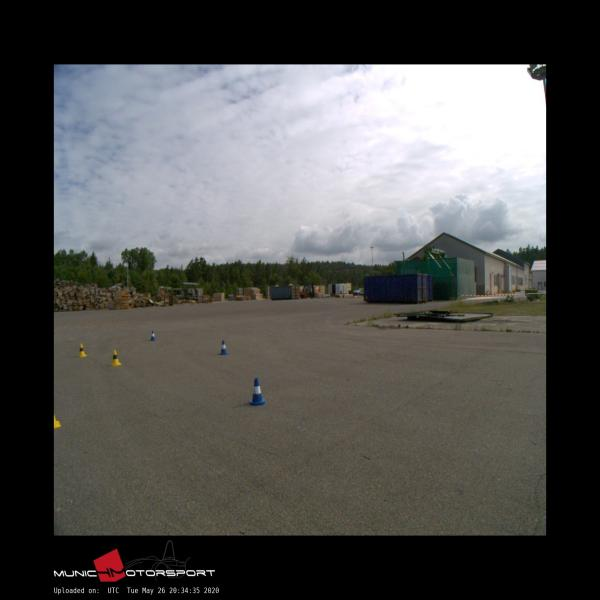blue_cone: (249, 378, 265, 405), (220, 340, 228, 355), (150, 331, 156, 340)
yellow_cone: (110, 350, 121, 364), (78, 343, 87, 356)
